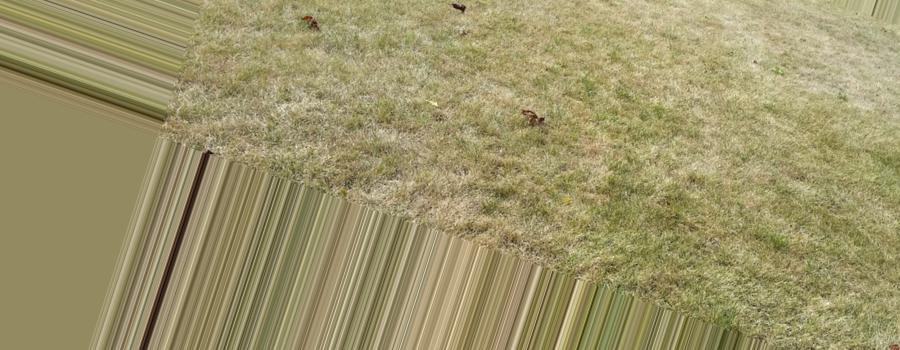patch: (698, 28, 841, 83), (857, 19, 893, 88)
